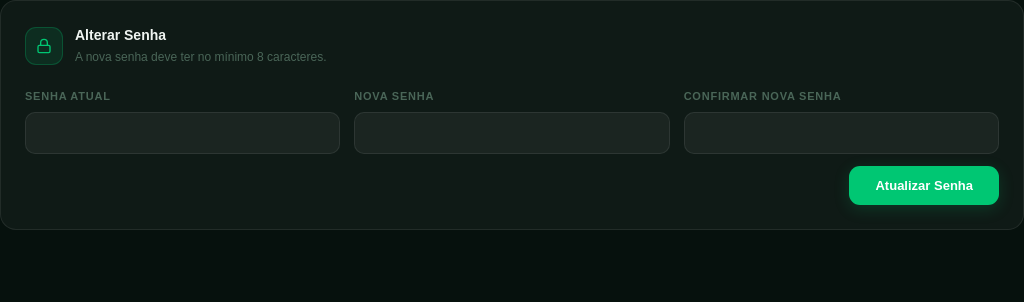
Scenario: SecurityPasswordForm › senha atual incorreta: exibe mensagem específica, distinta de erro genérico
The width and height of the screenshot is (1024, 302).
Type "senha-errada" into the password field labelled "Senha Atual" at (183, 133), box [25,112,340,154]
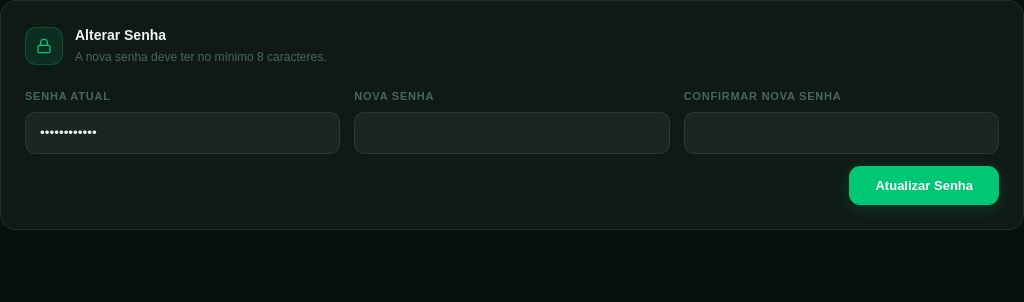
Type "NovaSenhaForte@123" into the password field labelled "Nova Senha" at (512, 133), box [354,112,670,154]
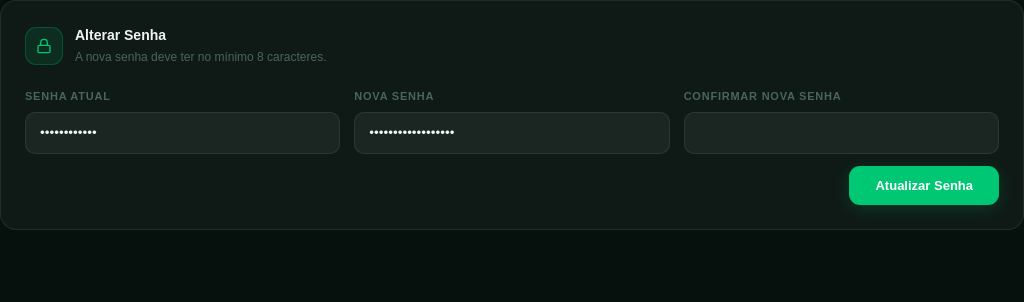
Type "NovaSenhaForte@123" into the password field labelled "Confirmar Nova Senha" at (841, 133), box [684,112,999,154]
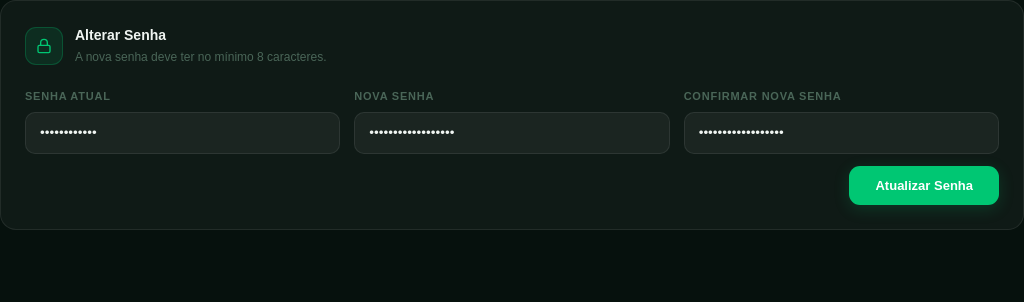
Click the button "Atualizar Senha" at (924, 186), box [850,166,999,205]
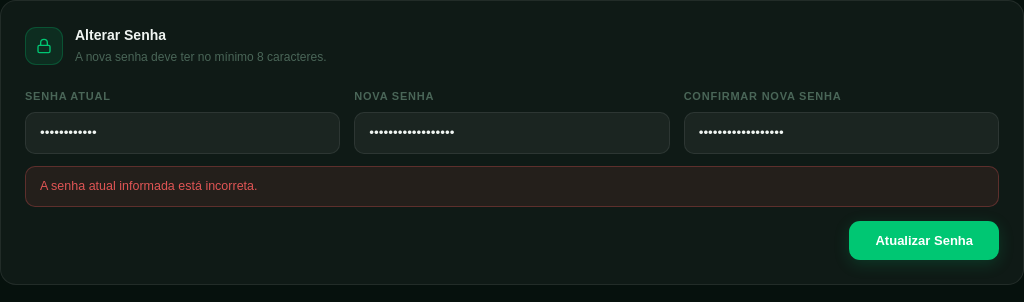
Expected: the message shows "senha atual informada está incorreta", [40,179,258,193]
